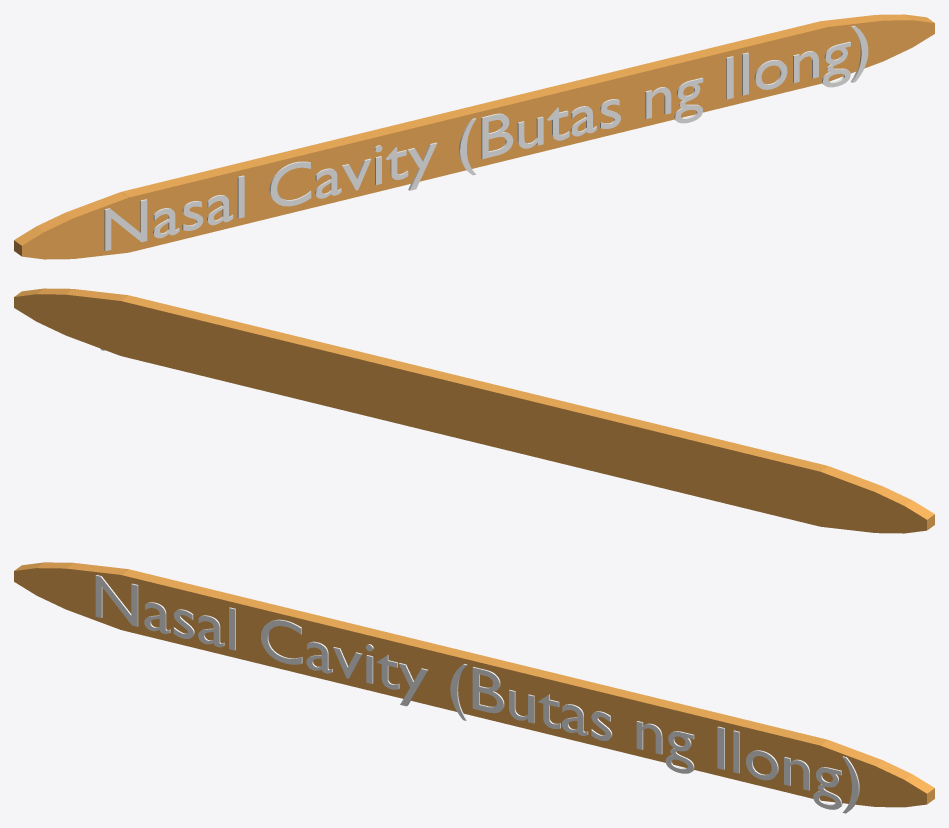
Rendered from txtNasalCavity.fbx.
3 renders of one model, top to bottom at view 1: azimuth 30°, elevation 25°; view 2: azimuth 150°, elevation 25°; view 3: azimuth 330°, elevation 25°, orthographic.
Visible parts, largest first — view 1: TagContainer.082, Text.083; view 2: TagContainer.082; view 3: TagContainer.082, Text.083.
Boxes of the visible parts, bbox=[...] form: TagContainer.082: bbox=[14, 14, 934, 259]; Text.083: bbox=[104, 25, 868, 250]; TagContainer.082: bbox=[14, 288, 934, 533]; TagContainer.082: bbox=[14, 562, 934, 807]; Text.083: bbox=[95, 575, 859, 813].
Bounding box in the file's own units: 717 × 45.66 × 11.92.
